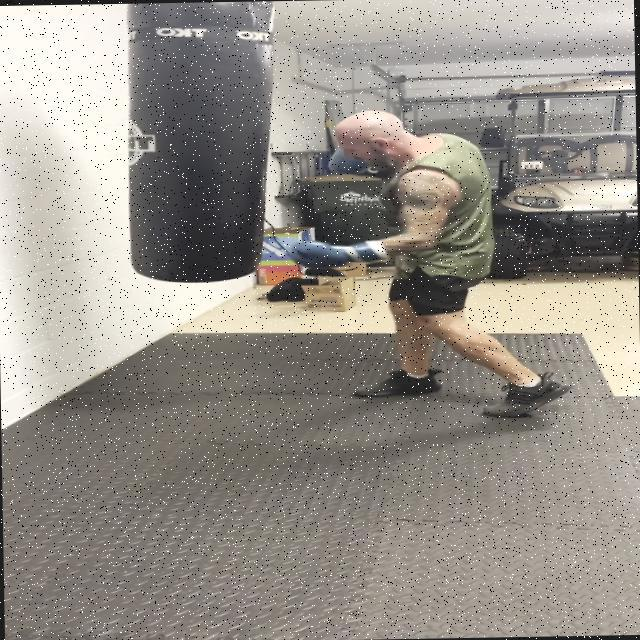bag: (110, 1, 284, 285)
uppercut: (251, 100, 498, 282)
